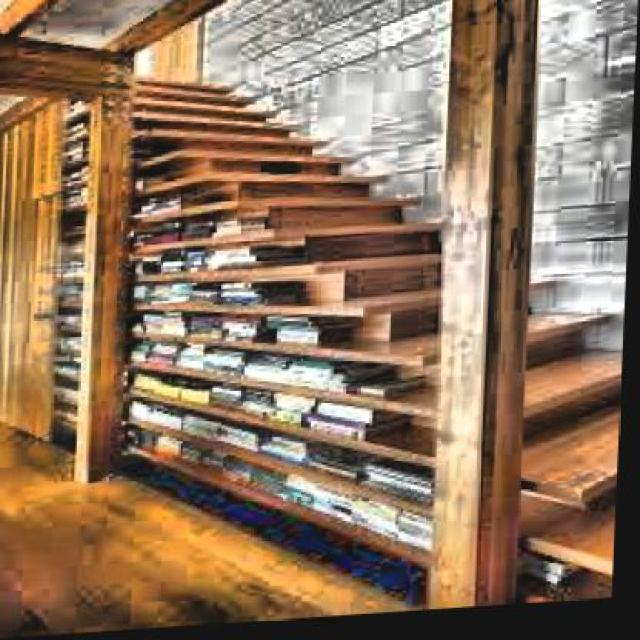stair: (146, 72, 632, 626)
